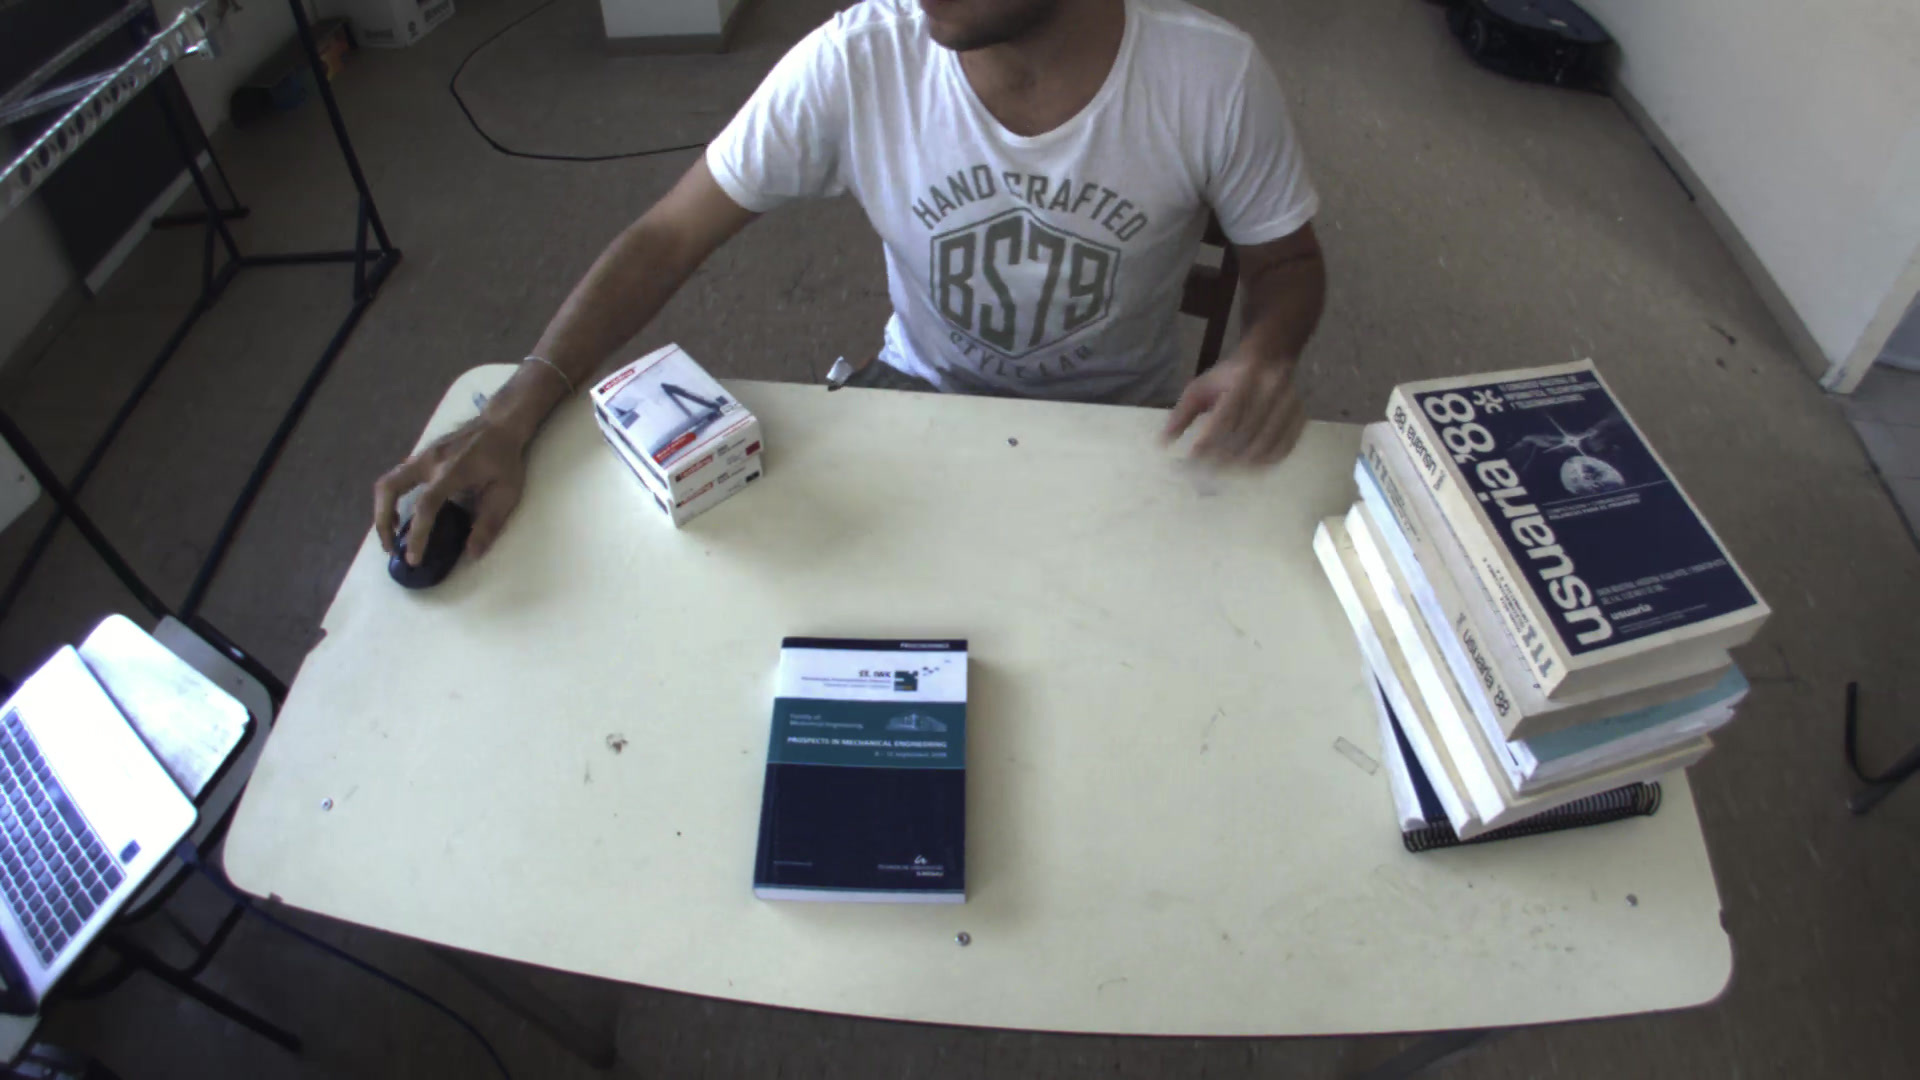hand: (361, 393, 539, 582), (1156, 328, 1319, 483)
